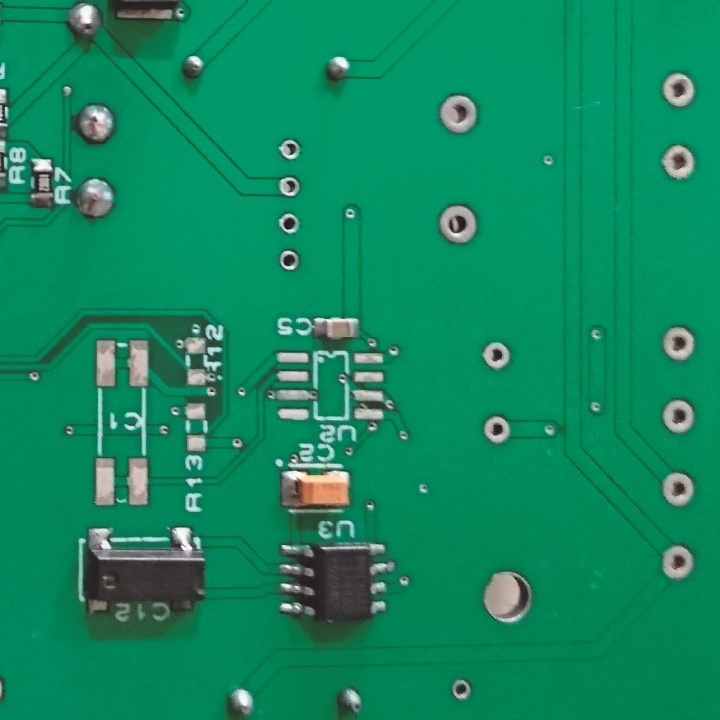F: (438, 91, 482, 136), (436, 203, 479, 244), (658, 140, 697, 184), (661, 70, 700, 112), (659, 467, 698, 509), (659, 541, 696, 585), (660, 395, 700, 434), (662, 323, 696, 367), (480, 340, 515, 372), (482, 412, 513, 445), (277, 173, 306, 200), (276, 244, 301, 275), (276, 208, 302, 236), (278, 137, 304, 163), (450, 677, 475, 703)
